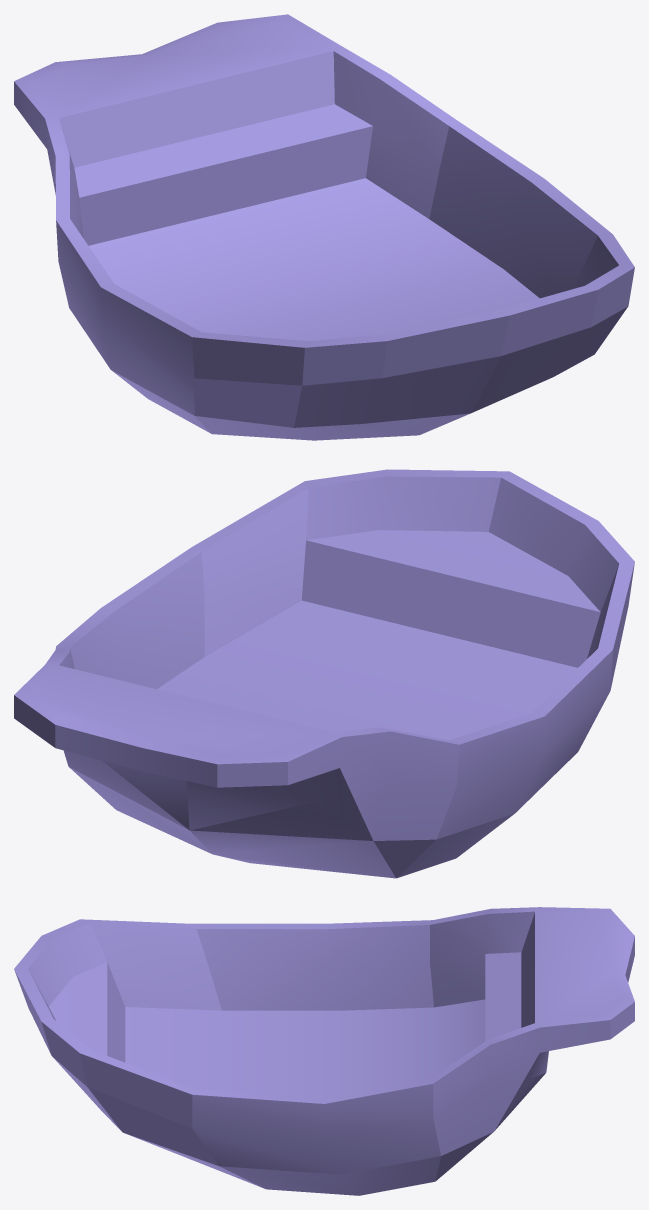
Rendered from ShellCar.fbx.
3 views of the same model, one above another, from view 1: azimuth 30°, elevation 25°; view 2: azimuth 150°, elevation 25°; view 3: azimuth 270°, elevation 25° (orthographic). The views are drawn at different scales.
Visible parts, largest first — view 1: ShellCar; view 2: ShellCar; view 3: ShellCar.
Part boxes in pixels (x1,y1,x2,y2): ShellCar: (14, 14, 634, 440); ShellCar: (14, 469, 634, 878); ShellCar: (14, 907, 634, 1195).
Bounding box in the file's own units: 213 × 102 × 310.
